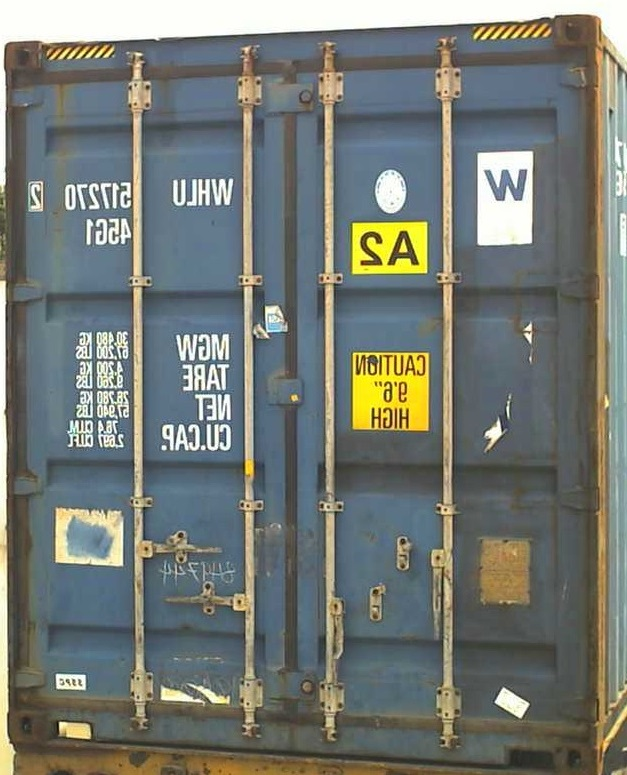container_door: (15, 16, 601, 747)
